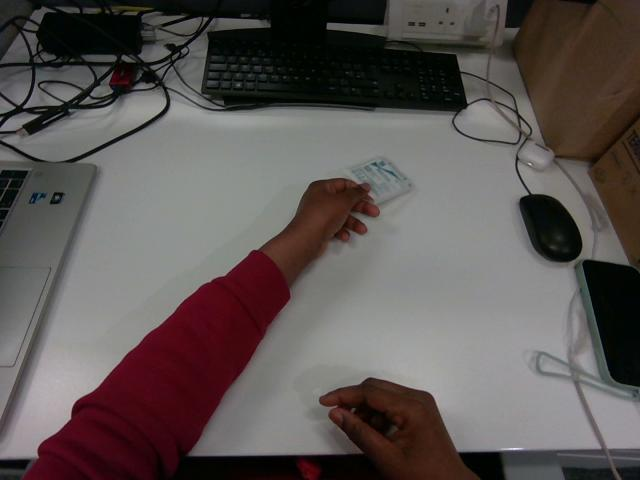gauze: (345, 157, 412, 203)
